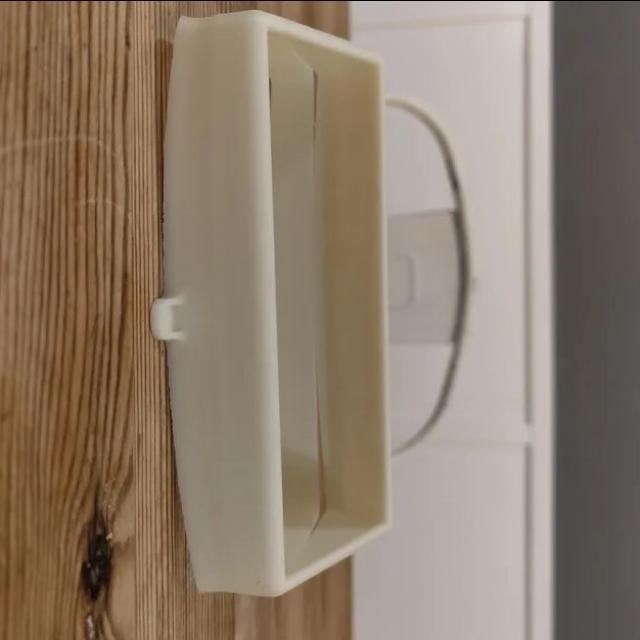Warping: (158, 18, 192, 120), (175, 516, 209, 595), (312, 478, 336, 520)
